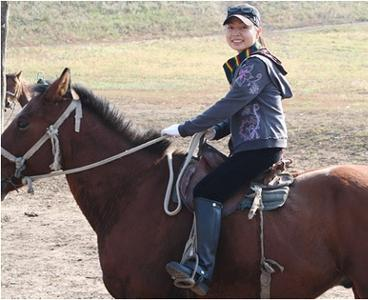person: (160, 6, 292, 296)
